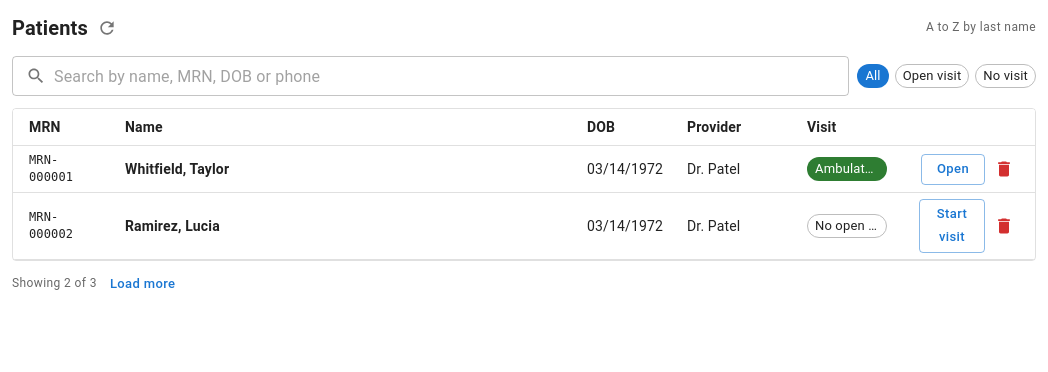
Scenario: Load more adds the next page and then goes away
Click the button "Load more" at {"x": 143, "y": 284}, box [105,269,180,300]
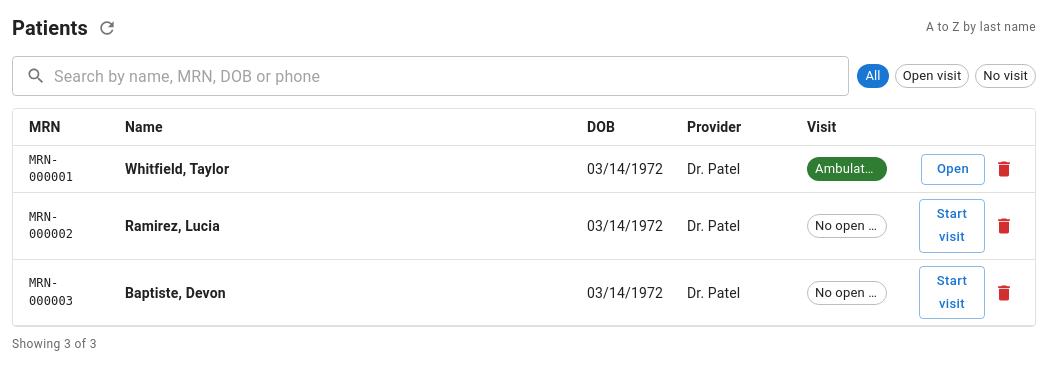
Expected: the text "Baptiste, Devon" is shown, [125,284,226,300]
Expected: the text "Showing 3 of 3" is shown, [12,335,97,355]
Expected: the button "Load more" is gone
